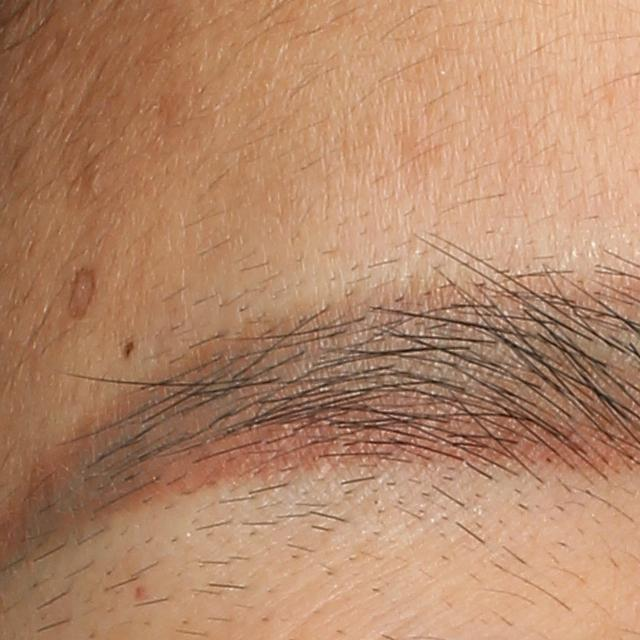nevus: (119, 337, 141, 362)
other: (66, 265, 96, 319)
